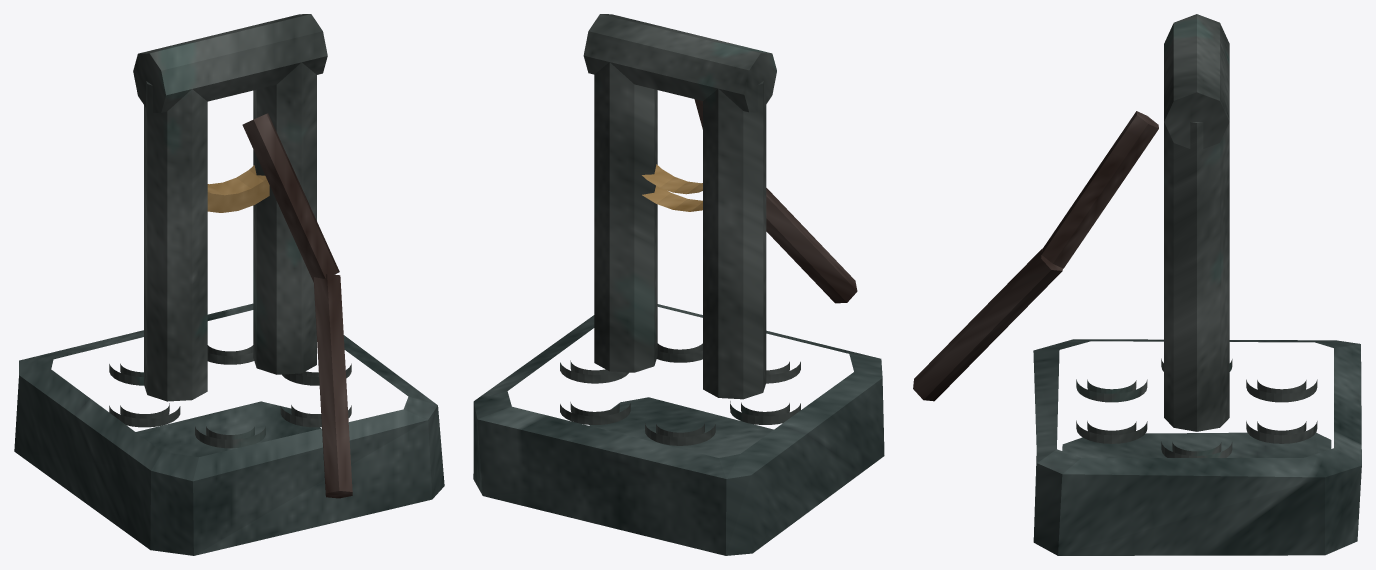
The model's file is 0691_rope_anchor_16.glb.
3 renders of one model, left to right at view 1: azimuth 30°, elevation 25°; view 2: azimuth 150°, elevation 25°; view 3: azimuth 270°, elevation 25°, orthographic.
Visible parts, largest first — view 1: iron, stone_dark, wood_dark, brass; view 2: iron, stone_dark, wood_dark, brass; view 3: stone_dark, iron, wood_dark.
Boxes of the visible parts, x1,y1,x2,y2 form: iron: [109, 14, 351, 448]; stone_dark: [14, 303, 444, 555]; wood_dark: [242, 113, 352, 498]; brass: [207, 165, 269, 212]; iron: [560, 14, 800, 445]; stone_dark: [473, 304, 884, 555]; wood_dark: [694, 99, 857, 303]; brass: [642, 164, 702, 211]; stone_dark: [1033, 339, 1361, 555]; iron: [1076, 14, 1317, 457]; wood_dark: [913, 111, 1158, 401].
Size of the model in its own units: 1.21 by 1.78 by 1.65.
4 materials, 4 textured.
